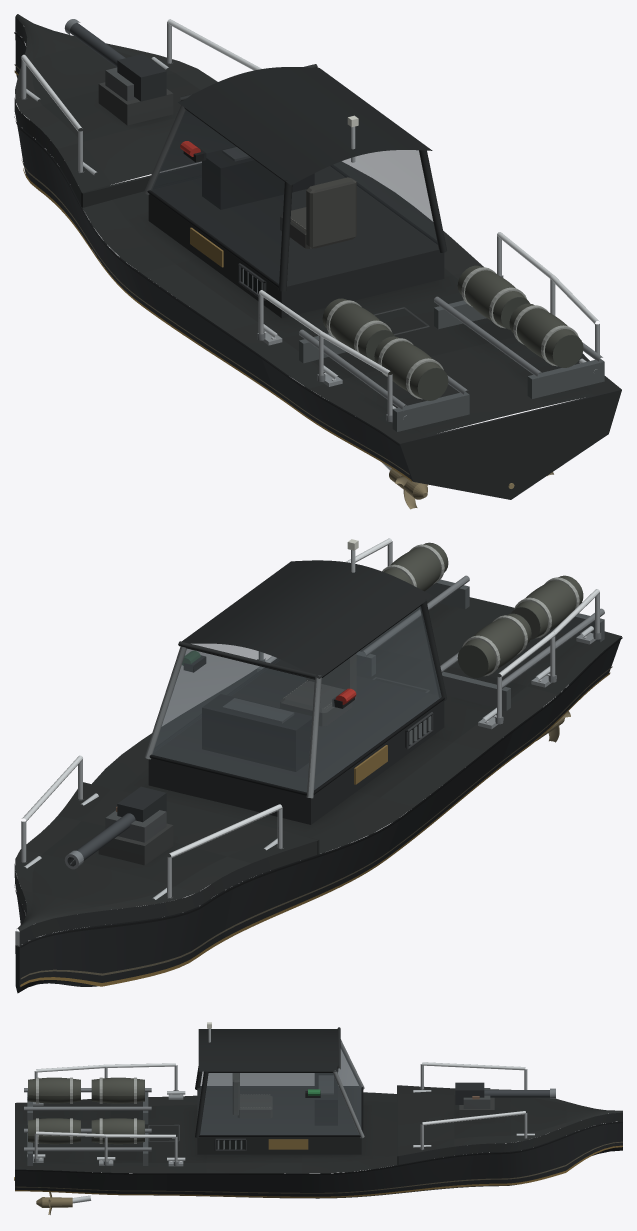
The model's file is speedboat.glb.
3 renders of one model, top to bottom at view 1: azimuth 30°, elevation 25°; view 2: azimuth 150°, elevation 25°; view 3: azimuth 270°, elevation 25°, orthographic. The views are drawn at different scales.
Visible parts, largest first — view 1: cabin_sill, aftdeck_L, cabin_roof, transom, aftdeck_R, hull_L_topsides, cabin_window_L, foredeck_L, cabin_window_R, foredeck_R, helm_console, helm_back (+23 smaller); view 2: hull_L_topsides, cabin_sill, aftdeck_L, windscreen, cabin_roof, cabin_window_L, foredeck_L, aftdeck_R, foredeck_R, helm_console, cabin_window_R, bow_cap_L (+26 smaller); view 3: hull_R_topsides, aftdeck_R, cabin_window_R, cabin_sill, cabin_roof, aftdeck_L, foredeck_R, foredeck_L, bow_cap_R, cabin_window_L, chine_R, charge_drum_1 (+26 smaller).
Boxes of the visible parts, x1,y1,x2,y2 form: cabin_sill: [148, 166, 444, 318]; aftdeck_L: [82, 191, 510, 443]; cabin_roof: [178, 67, 432, 185]; transom: [400, 390, 621, 499]; aftdeck_R: [333, 161, 621, 414]; hull_L_topsides: [15, 31, 412, 481]; cabin_window_L: [151, 110, 284, 283]; foredeck_L: [15, 14, 195, 192]; cabin_window_R: [330, 150, 437, 244]; foredeck_R: [18, 14, 235, 152]; helm_console: [202, 146, 314, 209]; helm_back: [306, 177, 356, 248]; hull_L_topsides: [19, 636, 621, 986]; cabin_sill: [148, 659, 444, 824]; aftdeck_L: [217, 607, 621, 854]; windscreen: [152, 648, 314, 792]; cabin_roof: [182, 560, 432, 678]; cabin_window_L: [314, 606, 441, 790]; foredeck_L: [18, 809, 317, 930]; aftdeck_R: [92, 597, 510, 813]; foredeck_R: [15, 783, 199, 928]; helm_console: [202, 694, 312, 771]; cabin_window_R: [153, 643, 280, 752]; bow_cap_L: [19, 841, 316, 945]; hull_R_topsides: [15, 1121, 622, 1196]; aftdeck_R: [15, 1128, 397, 1173]; cabin_window_R: [200, 1073, 358, 1134]; cabin_sill: [197, 1087, 361, 1154]; cabin_roof: [198, 1029, 338, 1071]; aftdeck_L: [15, 1092, 396, 1134]; foredeck_R: [398, 1110, 622, 1156]; foredeck_L: [398, 1085, 614, 1119]; bow_cap_R: [399, 1112, 622, 1164]; cabin_window_L: [200, 1050, 358, 1087]; chine_R: [15, 1145, 622, 1197]; charge_drum_1: [92, 1077, 144, 1103].
Bounding box in the file's own units: 3.22 × 3.13 × 10.02.
